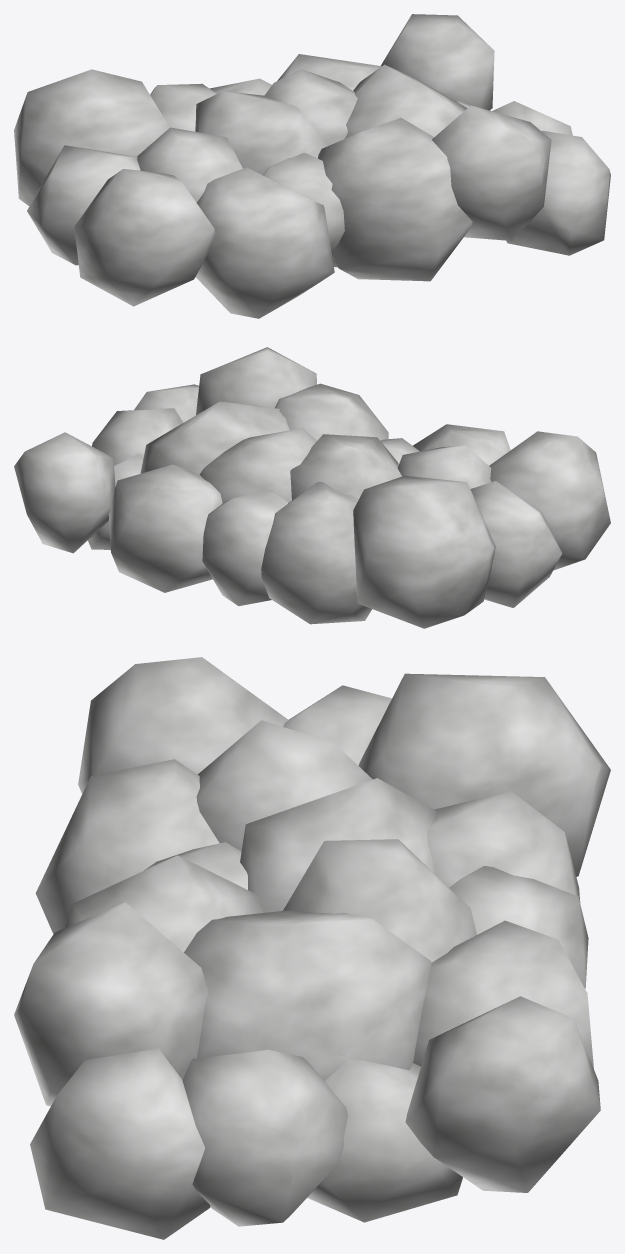
File: pas_keru_v1.glb
3 views of the same model, one above another, from view 1: azimuth 30°, elevation 25°; view 2: azimuth 150°, elevation 25°; view 3: azimuth 270°, elevation 25° (orthographic). The views are drawn at different scales.
Visible parts, largest first — view 1: dum; view 2: dum; view 3: dum.
Part boxes in pixels (x1,y1,x2,y2): dum: [14, 14, 610, 318]; dum: [14, 347, 610, 628]; dum: [14, 657, 610, 1239].
Size of the model in its own units: 2.57 by 0.7987 by 1.66.
1 material, 1 textured.
